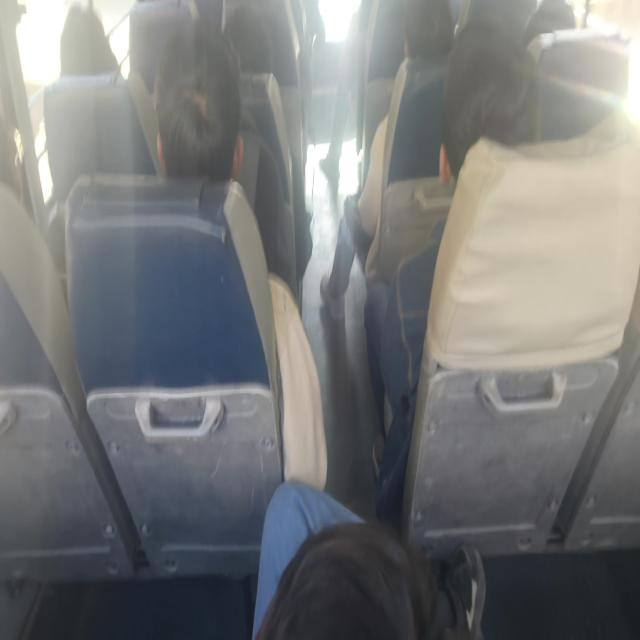person: (276, 488, 443, 640), (432, 28, 542, 206), (152, 40, 262, 185), (0, 94, 43, 259), (42, 6, 114, 104), (387, 0, 449, 89), (218, 5, 276, 75), (532, 0, 579, 56)
